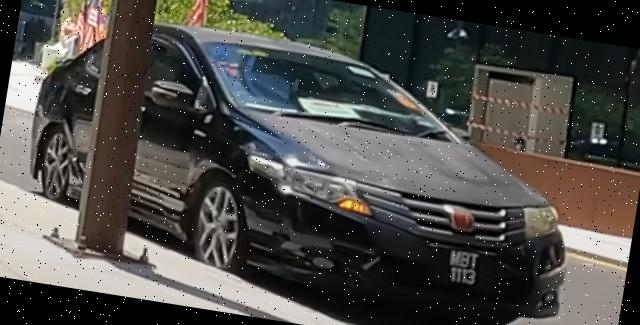License_Plate: (444, 247, 484, 288)
car: (13, 2, 597, 325)
